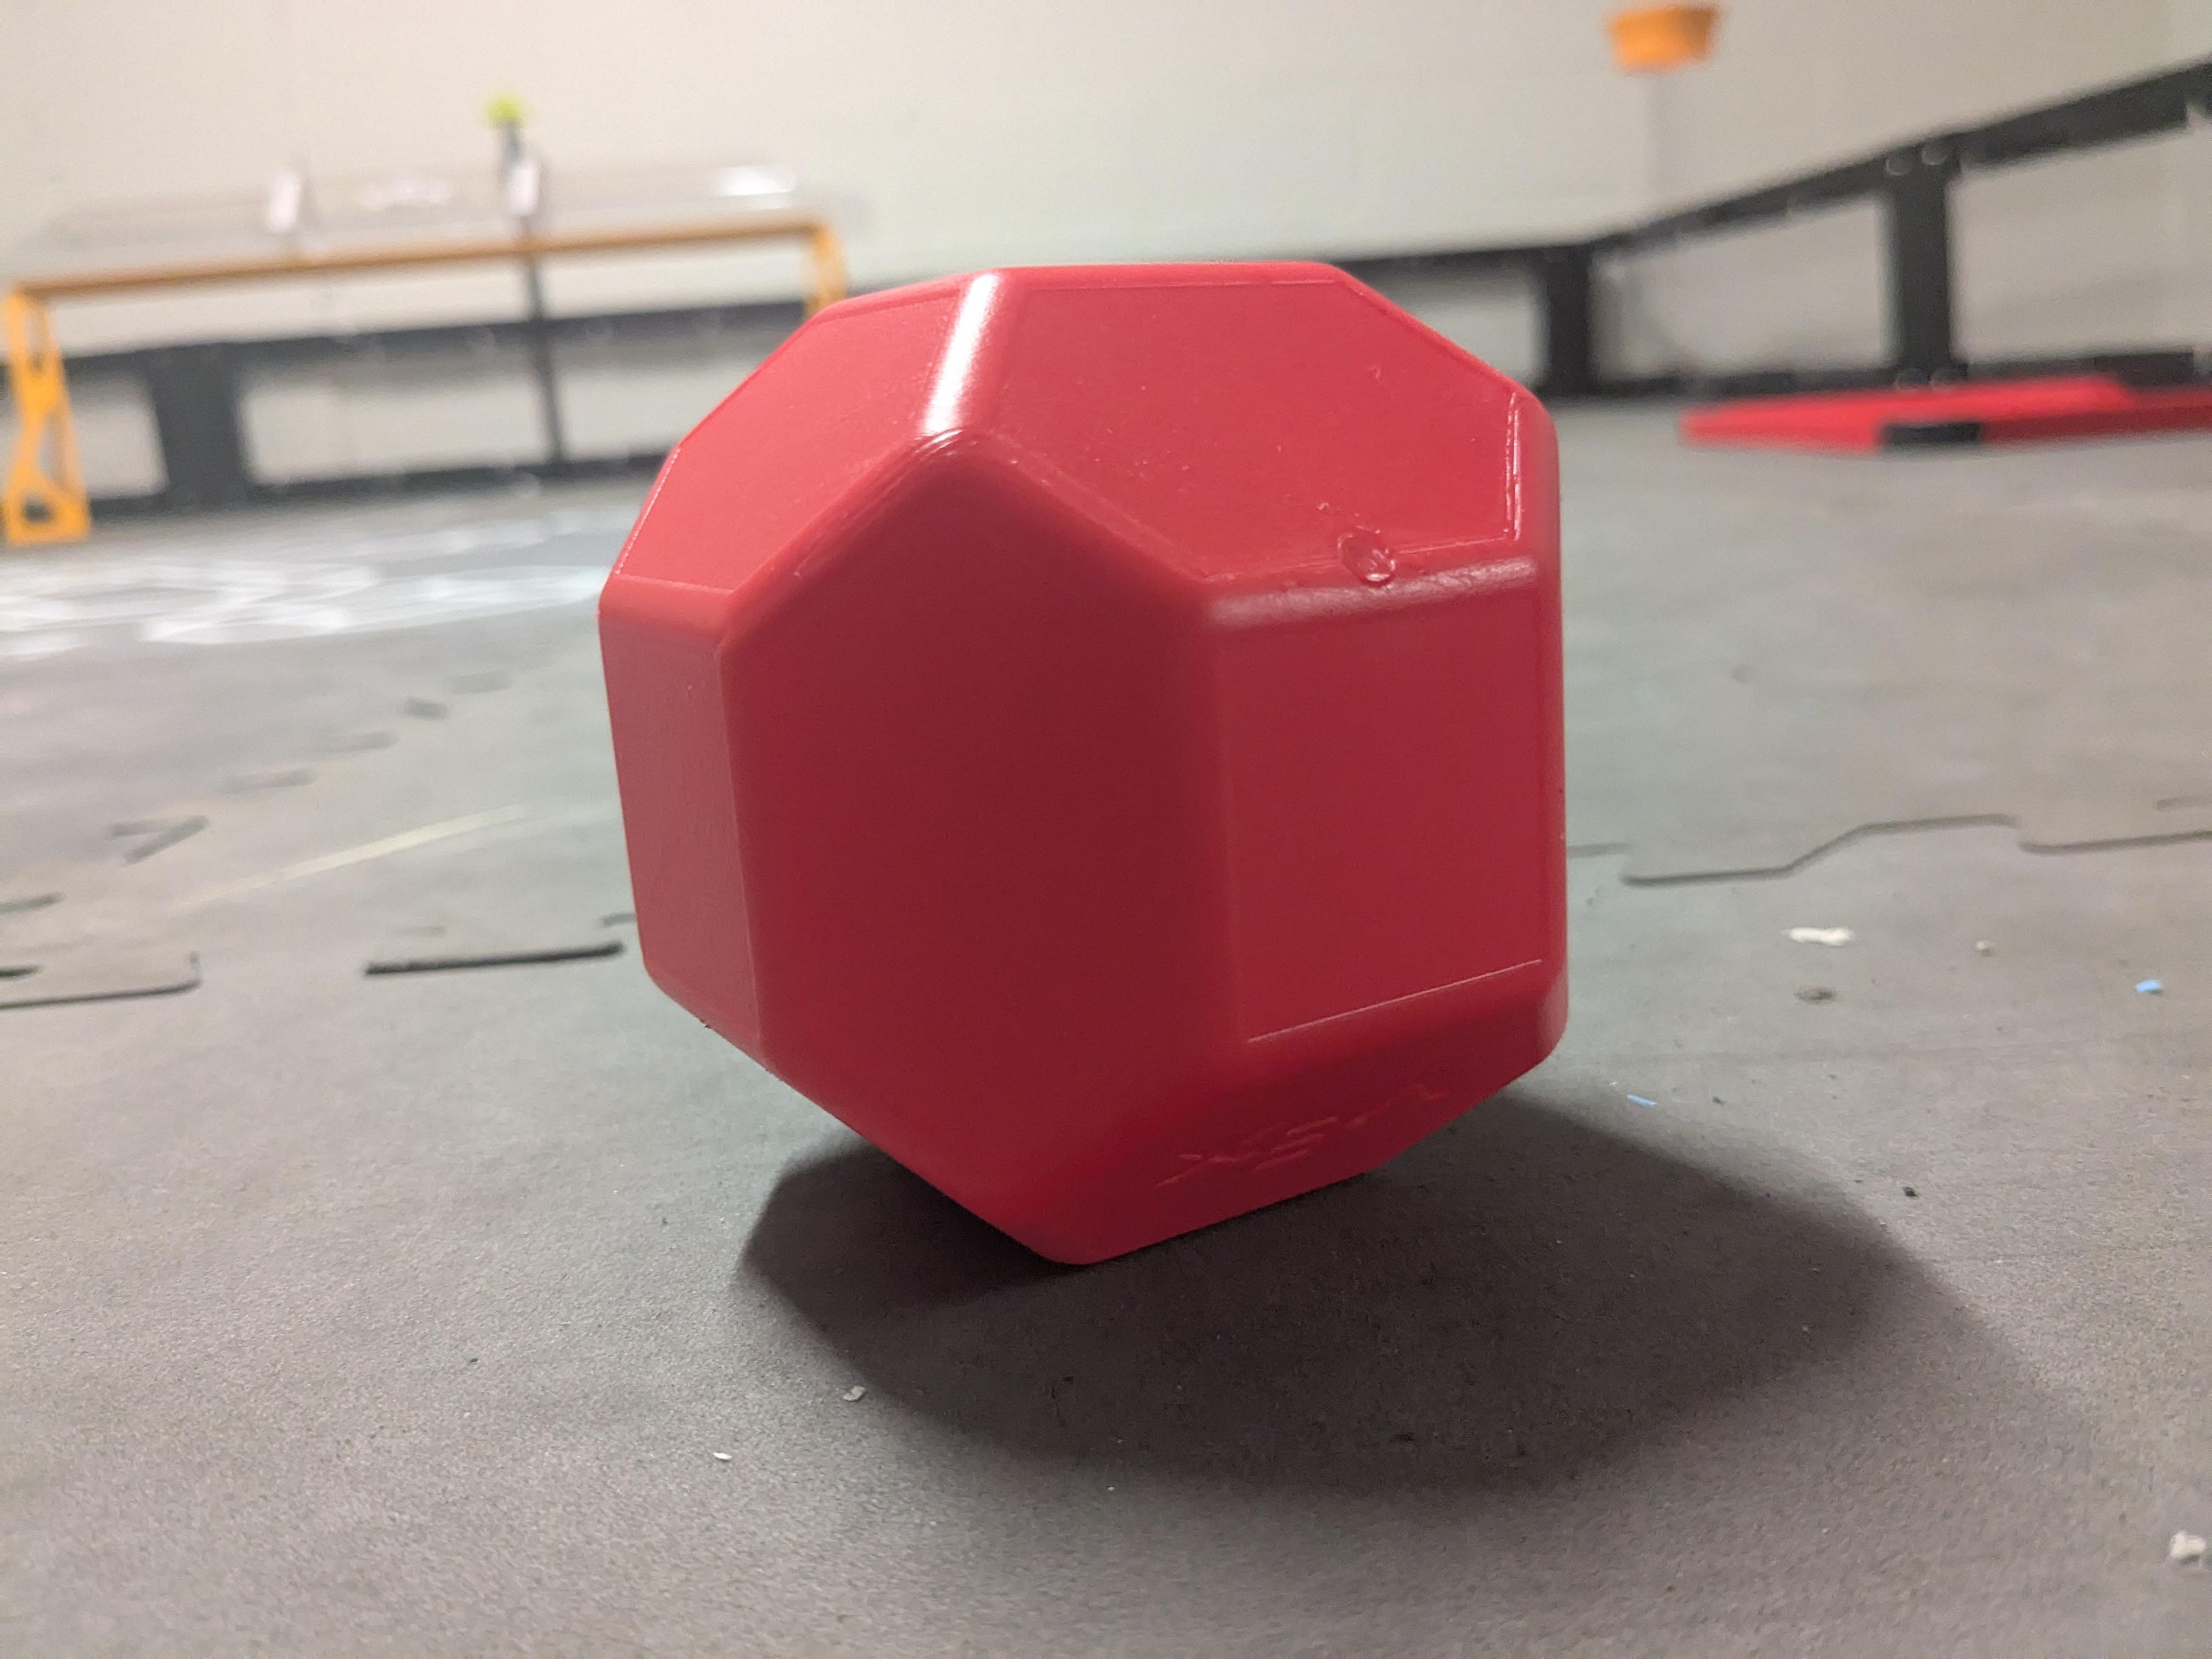Vex-Pieces-RED: (599, 263, 1568, 1263)
